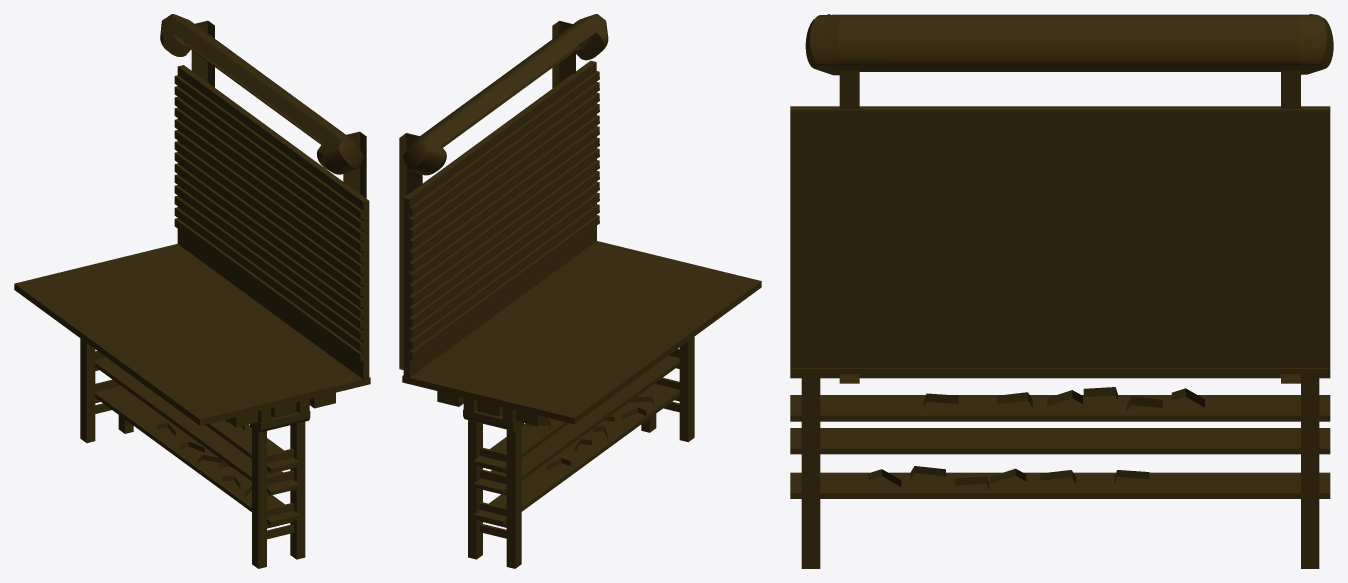
File: WorkBench.obj
3 views of the same model, side by side, from view 1: azimuth 30°, elevation 25°; view 2: azimuth 150°, elevation 25°; view 3: azimuth 270°, elevation 25° (orthographic). The views are drawn at different scales.
Parts seen in each view (by area): view 1: Cube.001_Cube.002; view 2: Cube.001_Cube.002; view 3: Cube.001_Cube.002.
Boxes of the visible parts, box(x1,y1,x2,y2) form: Cube.001_Cube.002: box(14, 14, 370, 568); Cube.001_Cube.002: box(399, 14, 761, 568); Cube.001_Cube.002: box(790, 14, 1333, 568).
Bounding box in the file's own units: 4.01 × 8.4 × 7.07.
